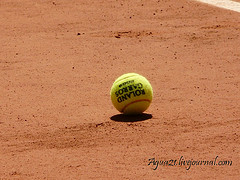tennis ball: (110, 72, 153, 115)
